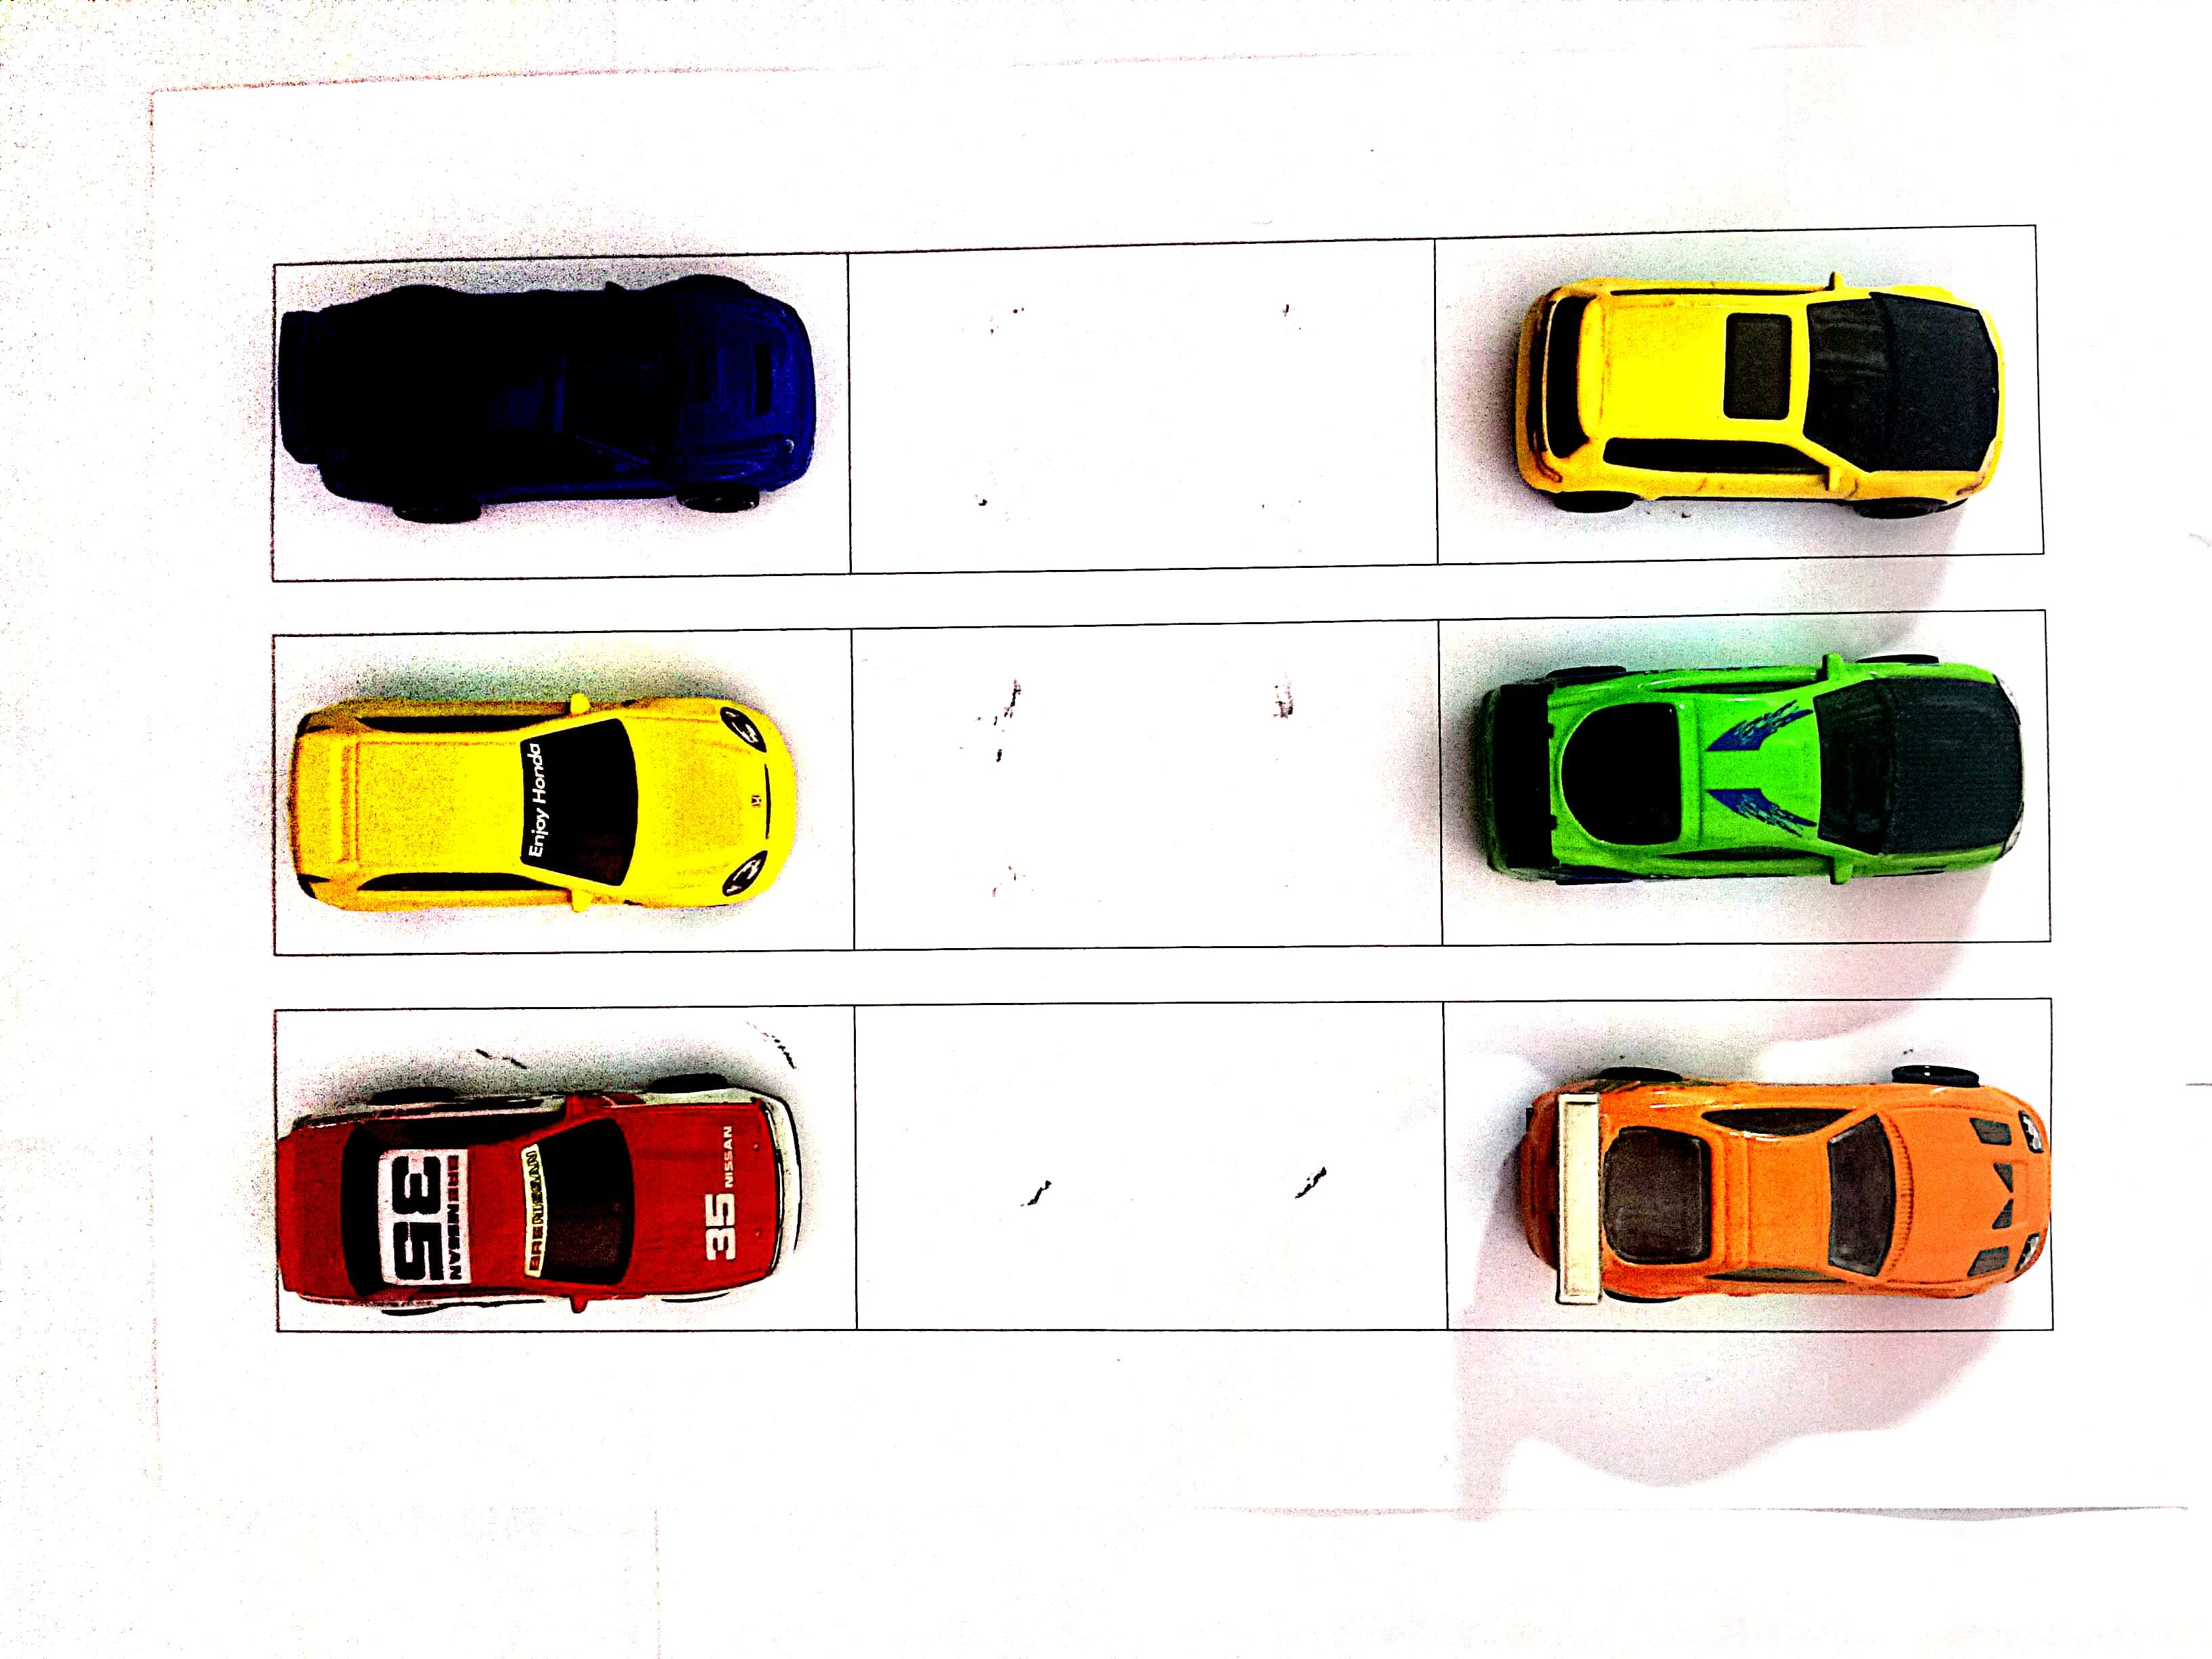Busy: (1446, 606, 2045, 945), (1442, 223, 2038, 558), (277, 1002, 857, 1337), (1446, 1002, 2041, 1324), (273, 627, 848, 953), (261, 261, 843, 580)
Free: (860, 613, 1442, 950), (862, 1002, 1442, 1333), (848, 240, 1437, 566)
